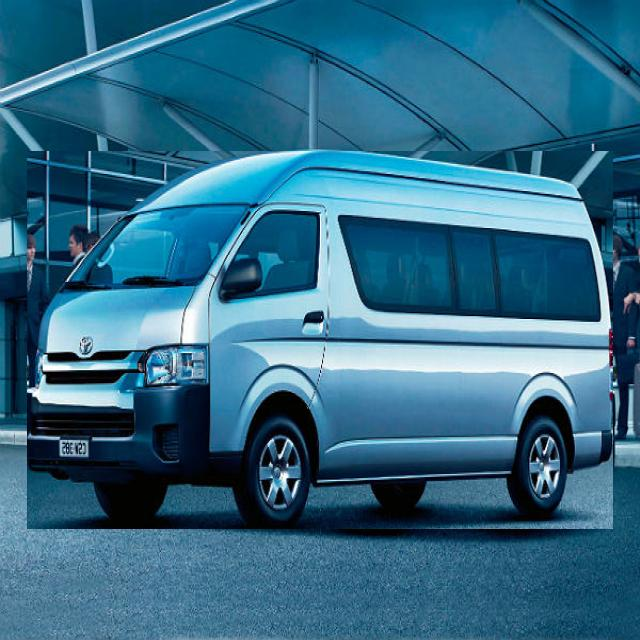bus: (28, 152, 613, 529)
